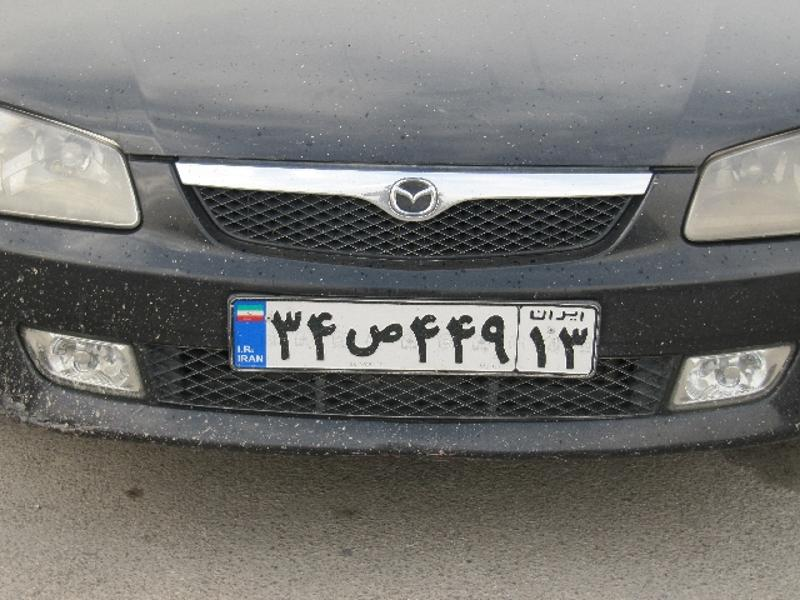Plate: (222, 294, 607, 376)
